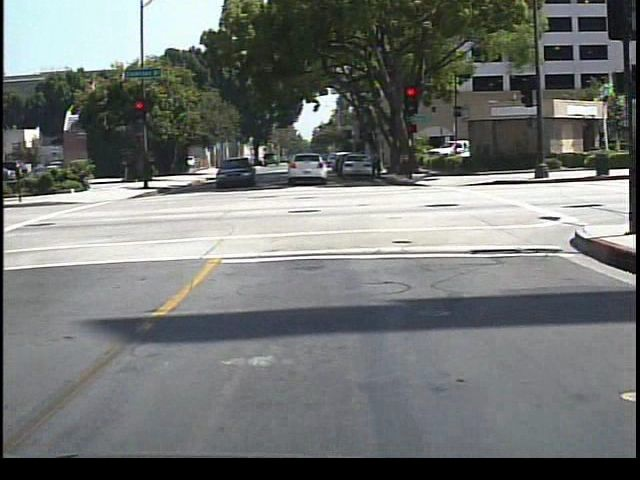person: (365, 144, 387, 185)
